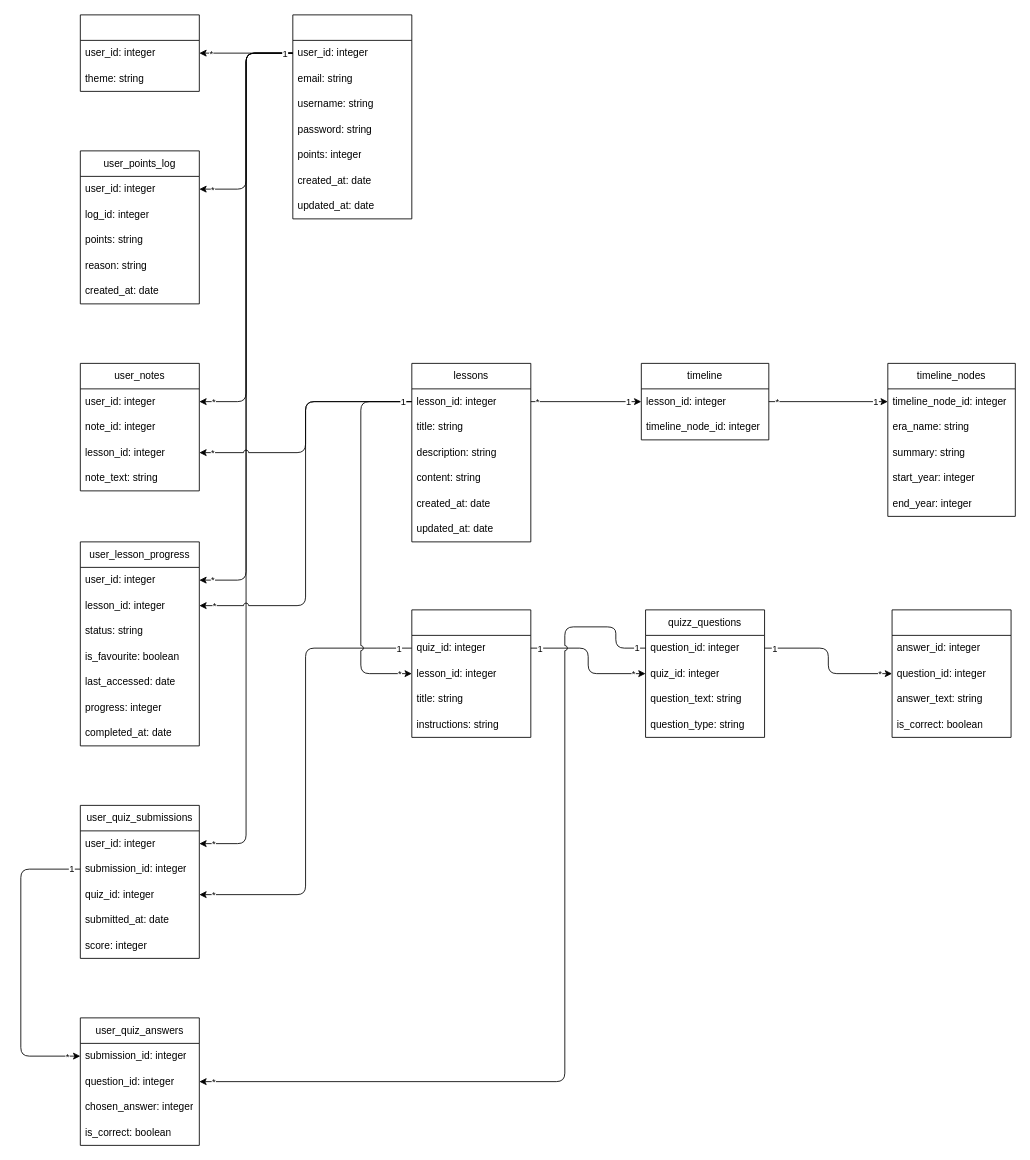
Some shapes in this 1030 by 1160 pixel diagram are drawn without their labels. The shapes that lost their labels are listed below. From the top down, each one's box as (x1, y1, x2, y2) in pixels, then its label:
(79, 14, 199, 91): user_settings
(292, 14, 412, 219): users
(411, 609, 531, 737): quizzes
(891, 609, 1011, 737): quizz_answers
